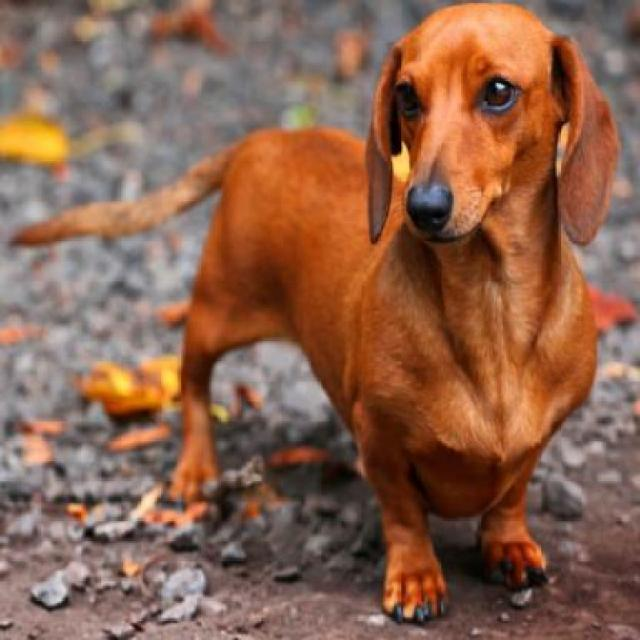Dog: (2, 2, 624, 630)
